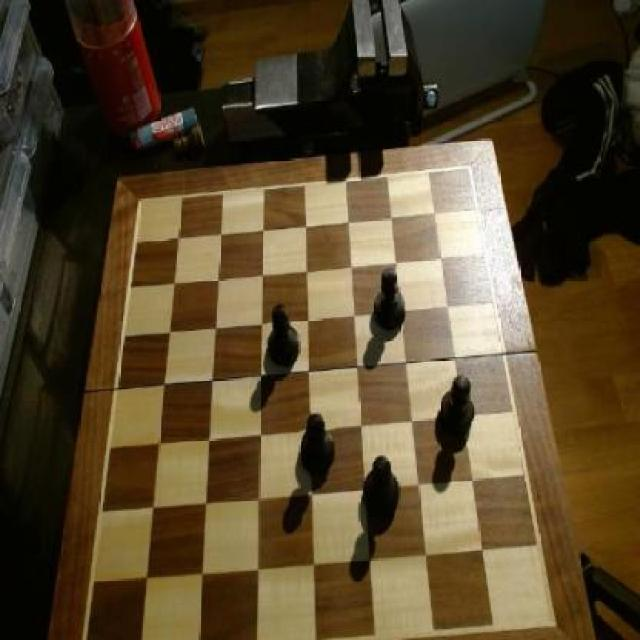black-knight: (436, 374, 474, 448), (362, 457, 399, 529), (299, 412, 336, 478), (268, 305, 304, 372), (371, 269, 406, 332)
